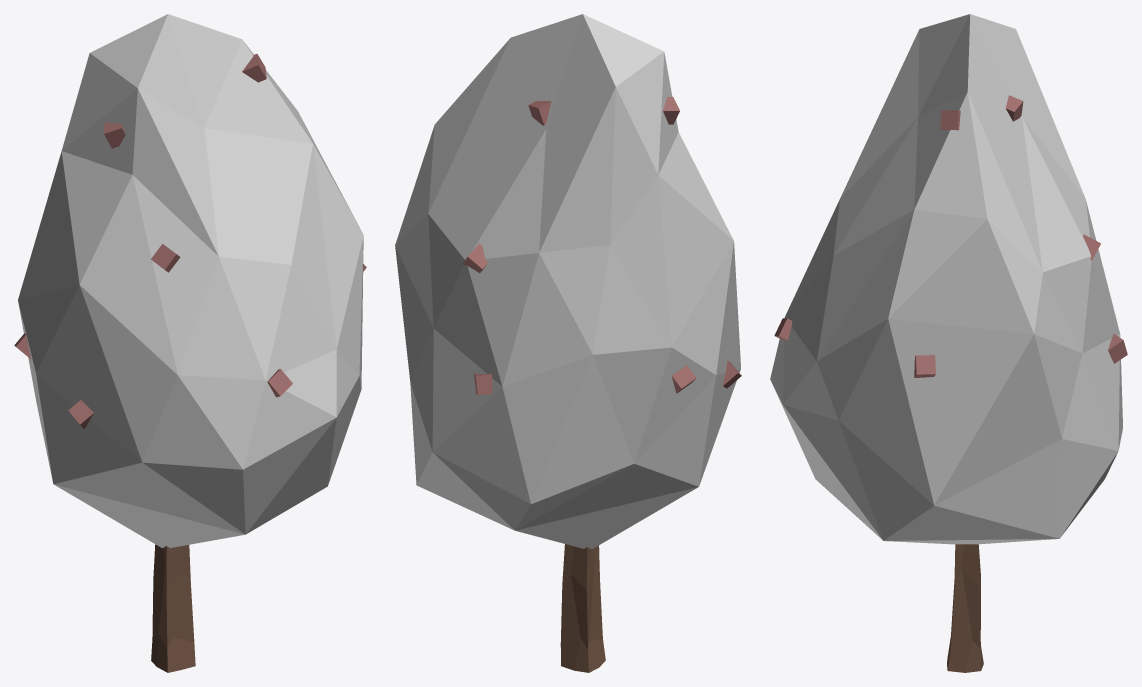
File: Tree_23_White.fbx
3 renders of one model, left to right at view 1: azimuth 30°, elevation 25°; view 2: azimuth 150°, elevation 25°; view 3: azimuth 270°, elevation 25°, orthographic.
Visible parts, largest first — view 1: Tree_23_White_Part_1, Tree_23_White_Part_2, Tree_23_White_Part_3; view 2: Tree_23_White_Part_1, Tree_23_White_Part_2, Tree_23_White_Part_3; view 3: Tree_23_White_Part_1, Tree_23_White_Part_2, Tree_23_White_Part_3.
Part boxes in pixels (bbox=[...]): Tree_23_White_Part_1: bbox=[18, 14, 363, 547]; Tree_23_White_Part_2: bbox=[151, 544, 195, 672]; Tree_23_White_Part_3: bbox=[14, 54, 366, 428]; Tree_23_White_Part_1: bbox=[395, 14, 740, 549]; Tree_23_White_Part_2: bbox=[560, 544, 605, 672]; Tree_23_White_Part_3: bbox=[463, 96, 741, 395]; Tree_23_White_Part_1: bbox=[770, 14, 1122, 544]; Tree_23_White_Part_2: bbox=[947, 544, 983, 672]; Tree_23_White_Part_3: bbox=[774, 95, 1127, 377].
Bounding box in the file's own units: 398 × 799 × 399.
